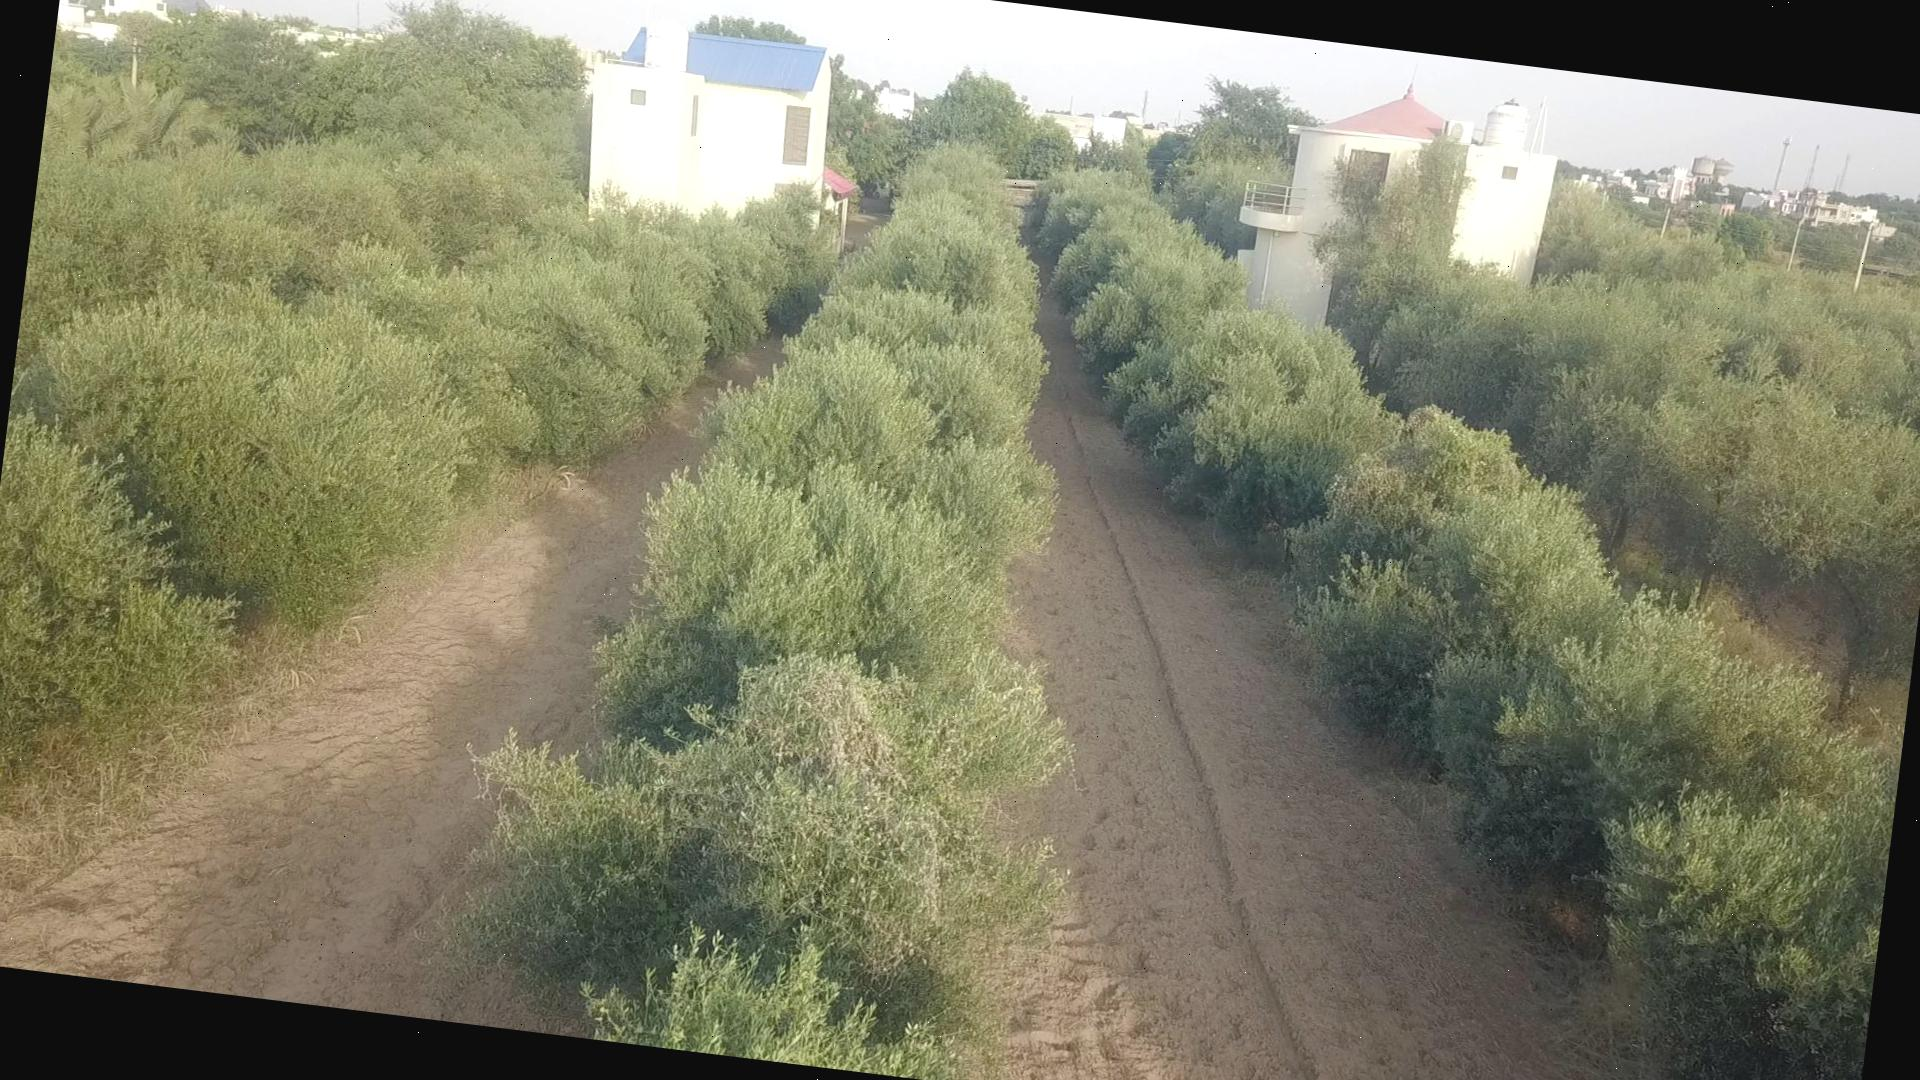canopy: (1035, 178, 1899, 1080), (480, 146, 1071, 1080), (0, 194, 833, 752)
road: (989, 297, 1594, 1080), (0, 386, 709, 1027)
